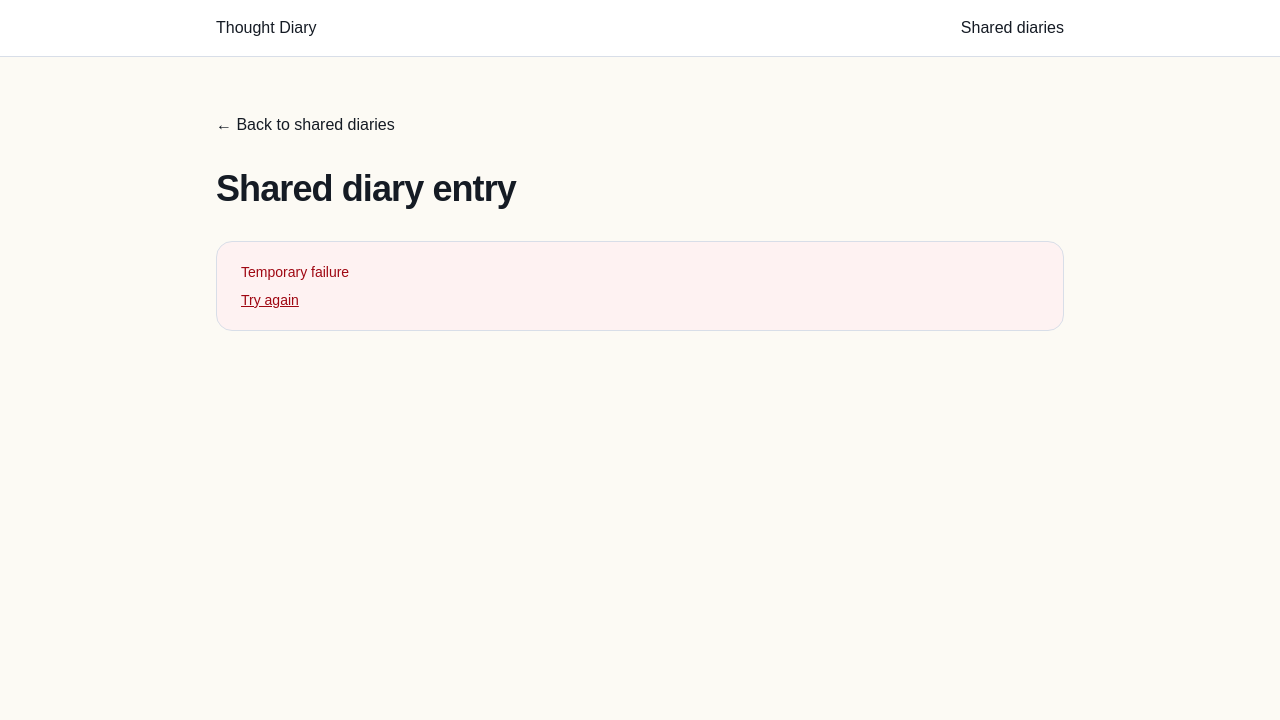
it: counselor diary detail › retries a retryable error
This screenshot has width=1280, height=720.
Expected: the message shows "Temporary failure", [241, 264, 349, 280]
Step 1. Click the button "Try again" → (270, 300), box [241, 290, 299, 310]
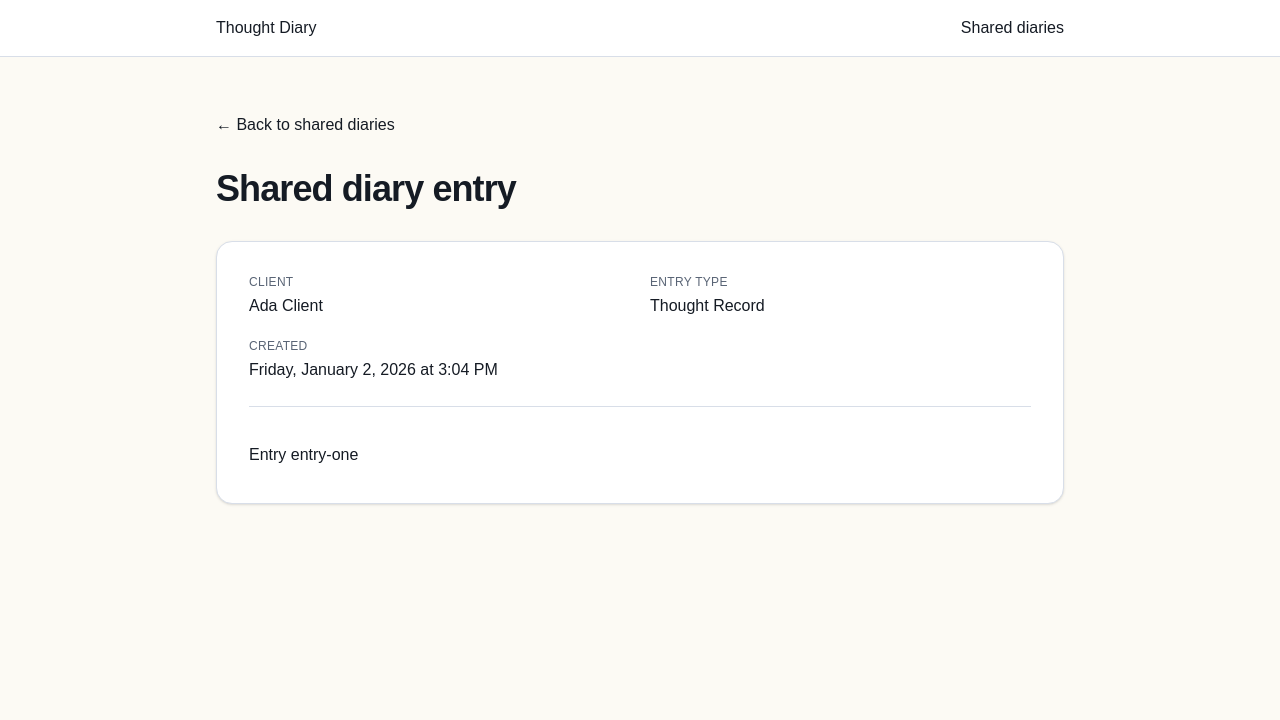
Now the text "Entry entry-one" is shown, box [249, 446, 358, 463]
